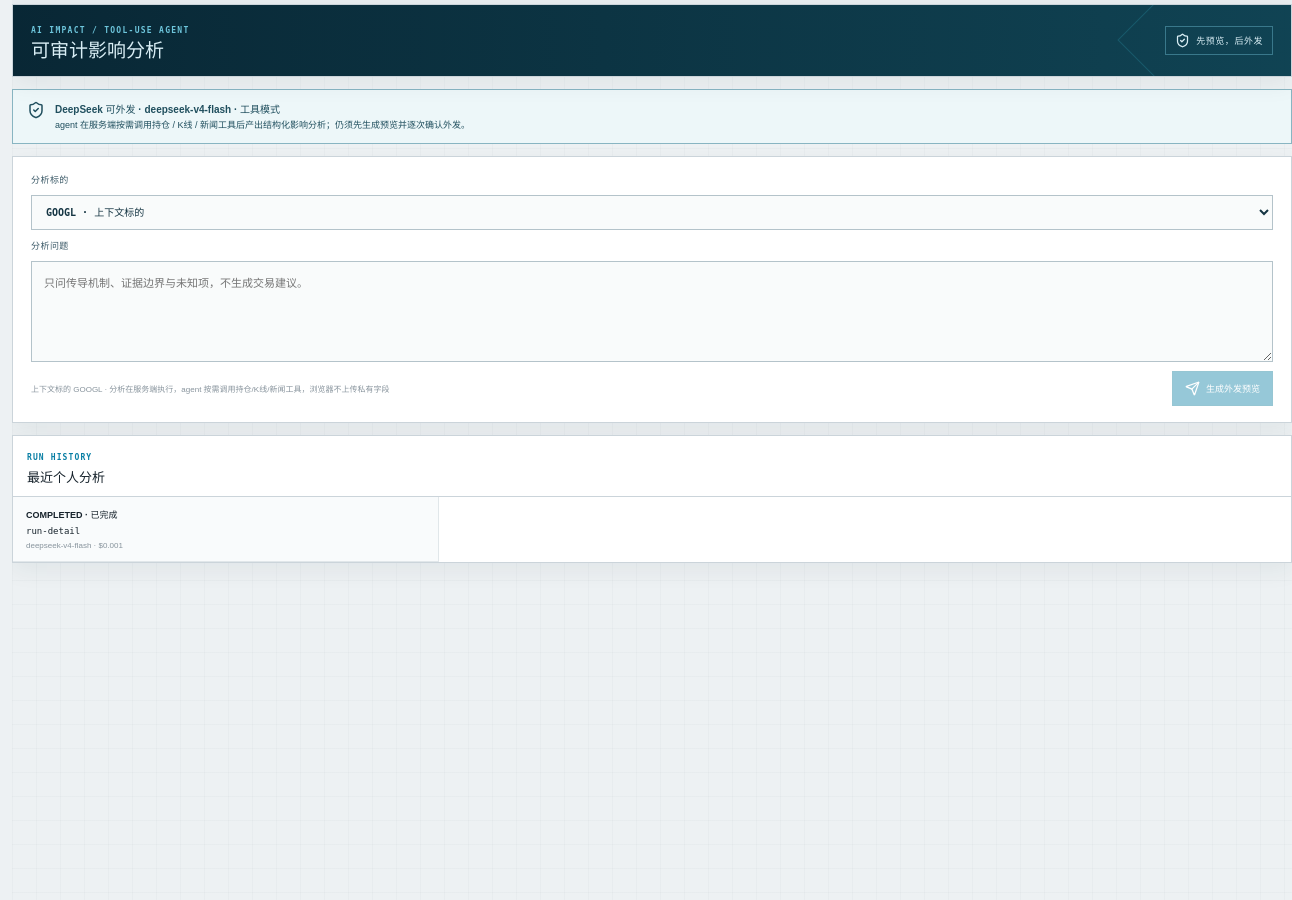
it: AI 影响分析工作台 › 点击历史摘要后按 run id 读取完整详情
Click the button "COMPLETED · 已完成 run-detail deepseek-v4-flash · $0.001": (72, 515) [13,497,439,562]
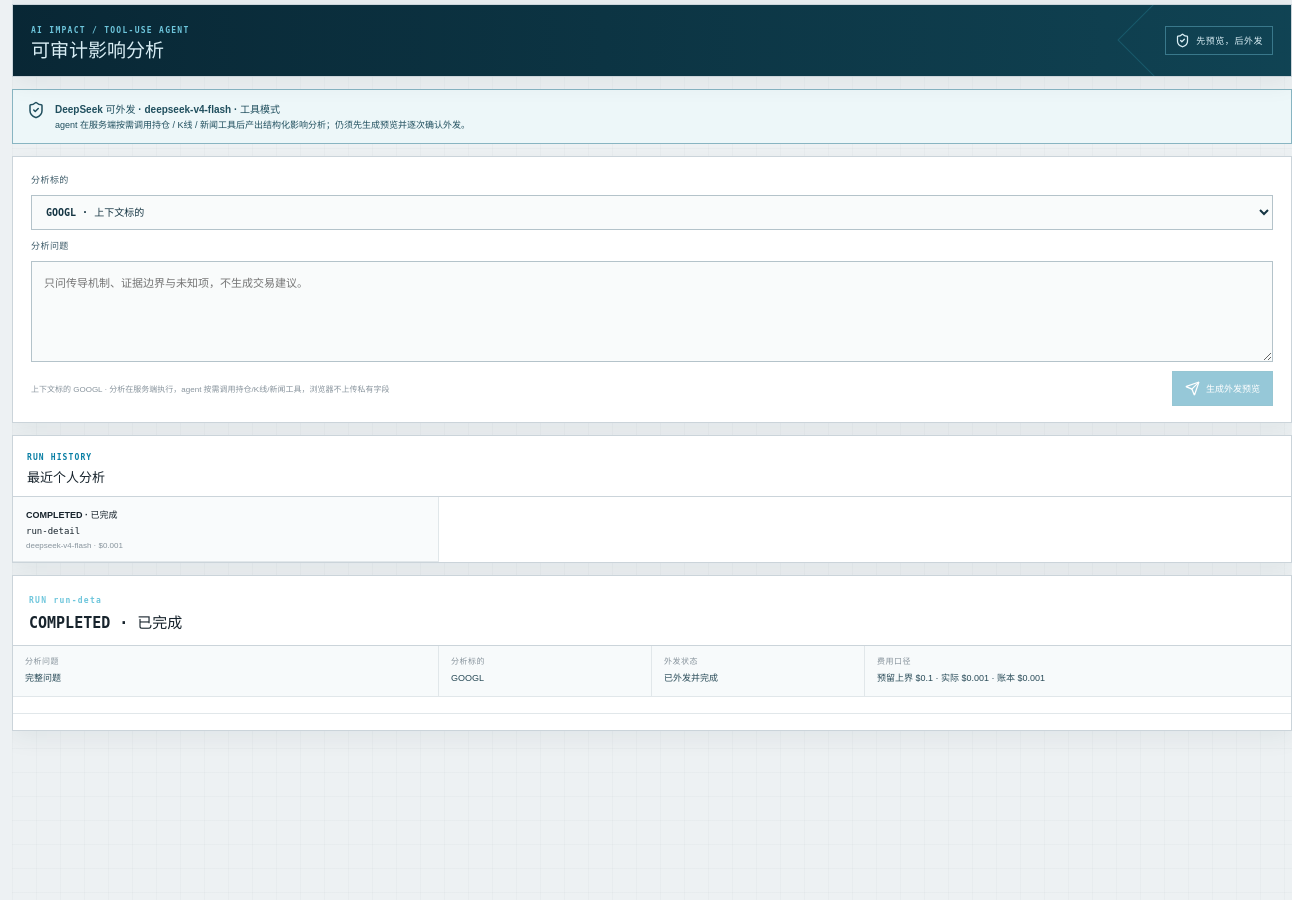
expect the text "完整问题" is shown: met, box [25,673,61,683]
